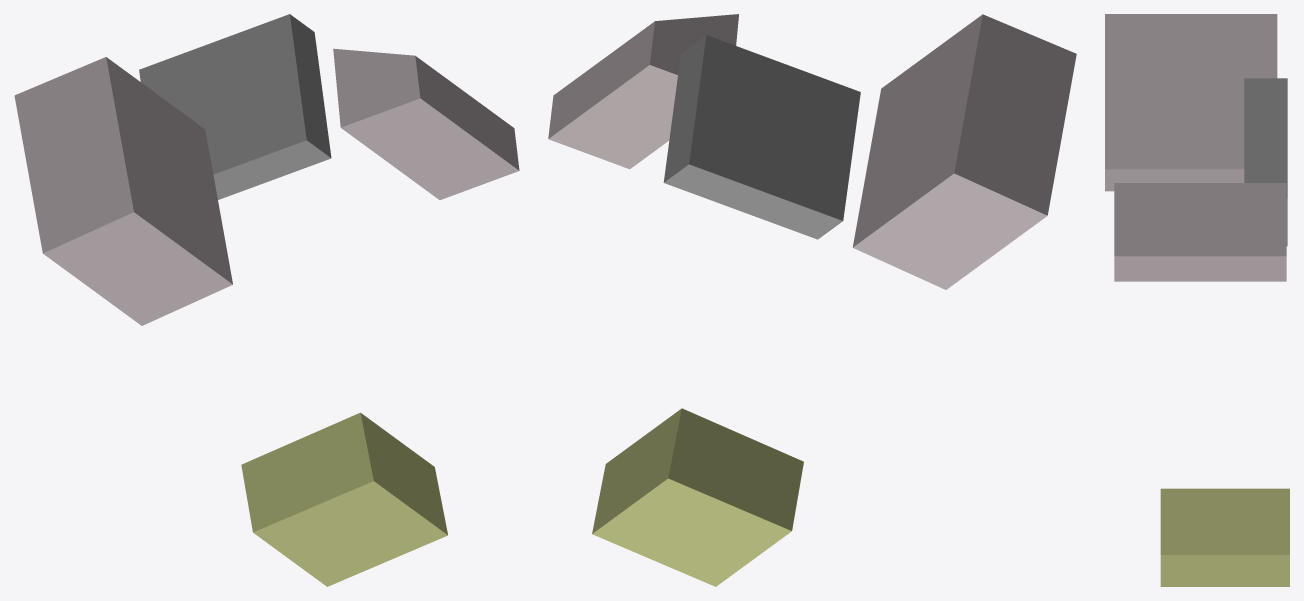
3 renders of one model, left to right at view 1: azimuth 30°, elevation 25°; view 2: azimuth 150°, elevation 25°; view 3: azimuth 270°, elevation 25°, orthographic. The views are drawn at different scales.
Parts seen in each view (by area): view 1: 0_1_3_2_2_2_0_2_1; view 2: 0_1_3_2_2_2_0_2_1; view 3: 0_1_3_2_2_2_0_2_1.
Part boxes in pixels (left/top/right/bottom): 0_1_3_2_2_2_0_2_1: left=14, top=14, right=519, bottom=586; 0_1_3_2_2_2_0_2_1: left=548, top=14, right=1076, bottom=586; 0_1_3_2_2_2_0_2_1: left=1105, top=14, right=1289, bottom=586.
Size of the model in its own units: 28.75 by 34.63 by 12.88.
